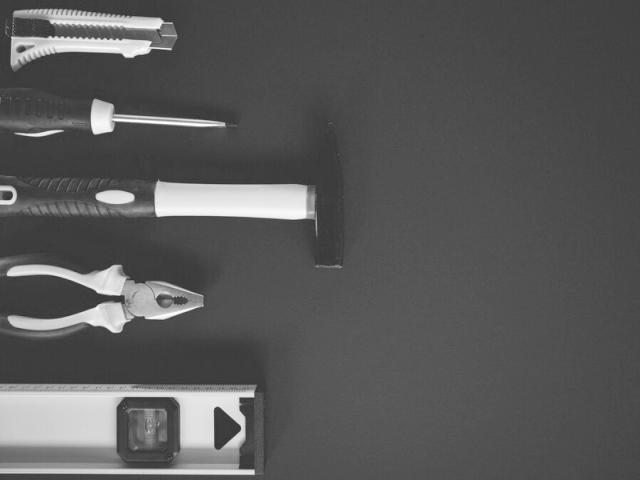Hammer: (0, 124, 342, 267)
Pliers: (0, 257, 204, 336)
Screwdriver: (0, 89, 236, 136)
Utility knife: (6, 8, 178, 70)
